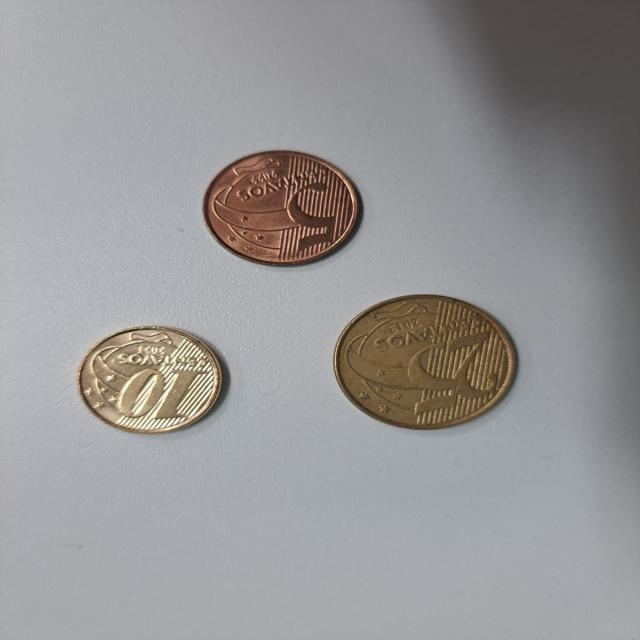25 cents: (333, 292, 531, 434)
